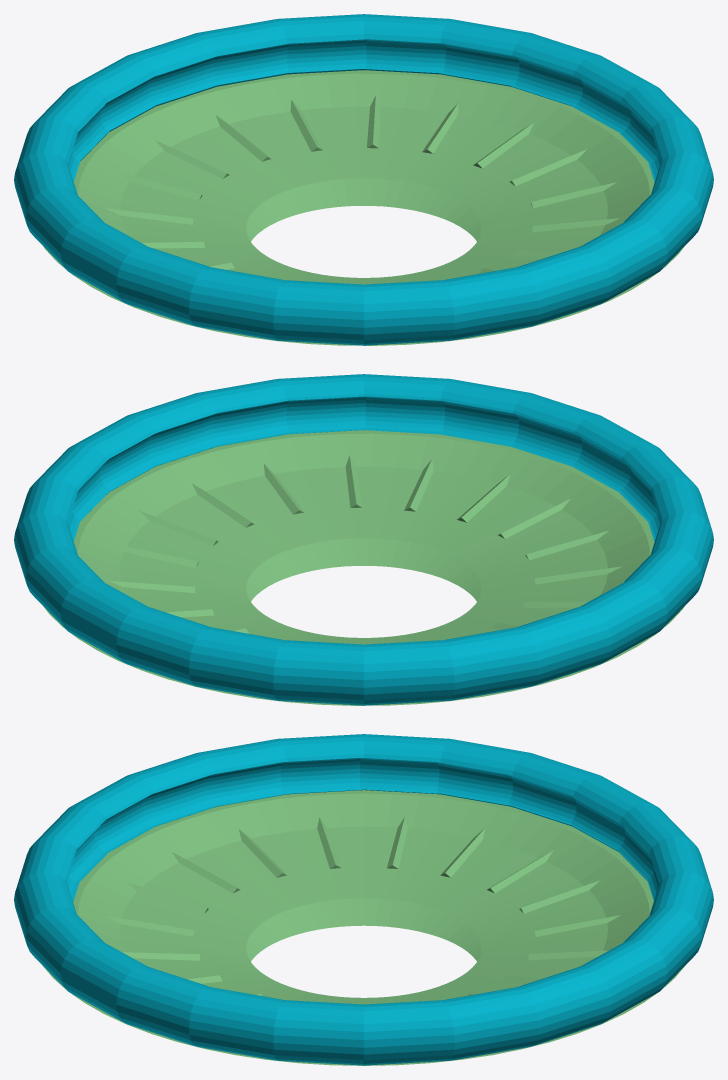
Rendered from roulette2.glb.
The picture shows the model from 3 angles, top to bottom: view 1: azimuth 30°, elevation 25°; view 2: azimuth 150°, elevation 25°; view 3: azimuth 270°, elevation 25°; orthographic projection.
Visible parts, largest first — view 1: Mesh_Mesh_head_geo.001_lambert2SG.001; view 2: Mesh_Mesh_head_geo.001_lambert2SG.001; view 3: Mesh_Mesh_head_geo.001_lambert2SG.001.
Boxes of the visible parts, box(x1,y1,x2,y2) form: Mesh_Mesh_head_geo.001_lambert2SG.001: box(14, 14, 713, 345); Mesh_Mesh_head_geo.001_lambert2SG.001: box(14, 374, 713, 705); Mesh_Mesh_head_geo.001_lambert2SG.001: box(14, 734, 713, 1065).
Bounding box in the file's own units: 52 × 8.5 × 52.
